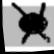not correct: (7, 0, 54, 49)
